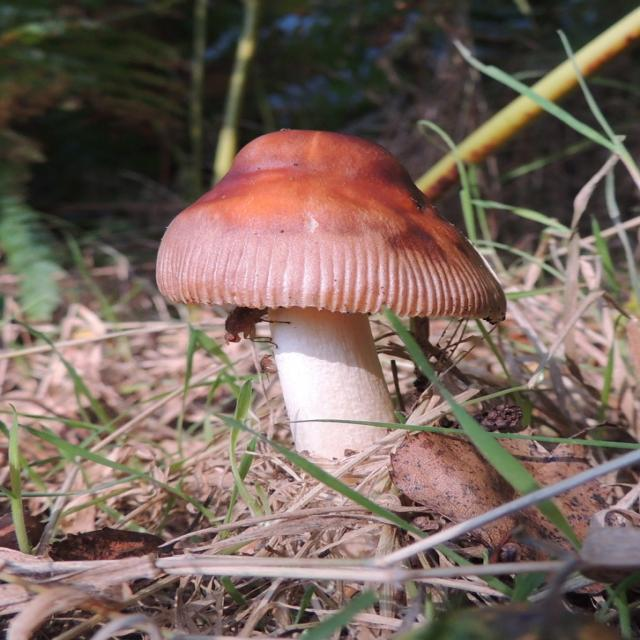Mushroom: (161, 126, 500, 457)
